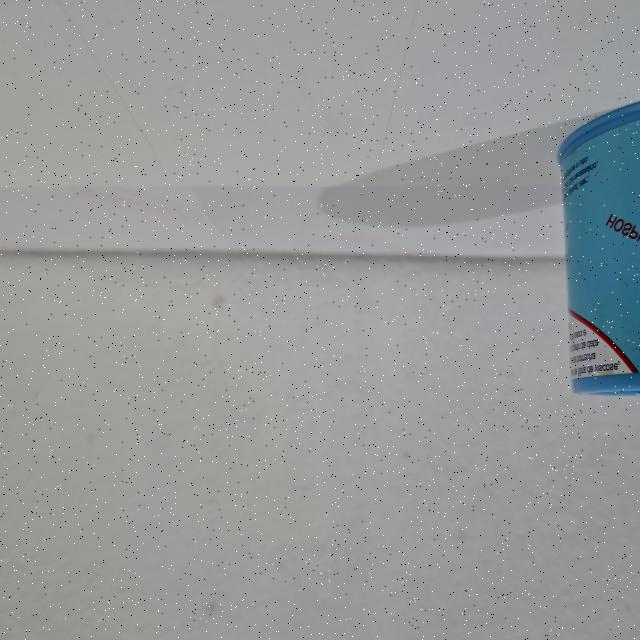procitex: (556, 86, 640, 404)
